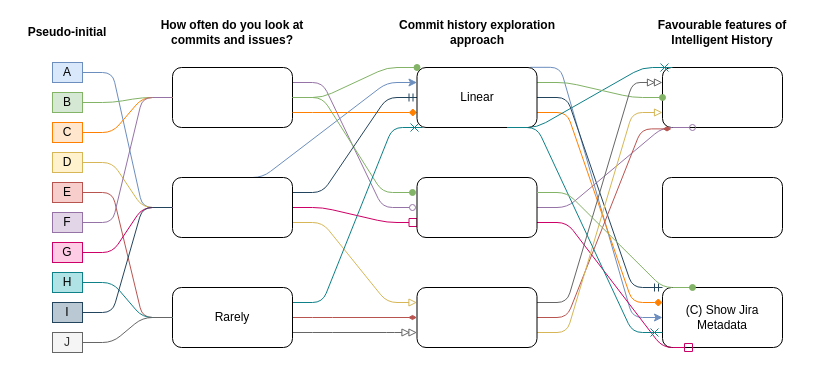
This 824x373 diagram has some shape labels left out. Here are the shapes that lost their labels. From the top down, the centre of each, then its label:
At point 232,97: "Often".
At point 722,97: "(A) Highlight Important Commits".
At point 232,207: "Sometimes".
At point 476,207: "Cyclic and Backtracking".
At point 722,207: "(B) Show Diff Metadata".
At point 476,317: "Commit Message Skimming".
